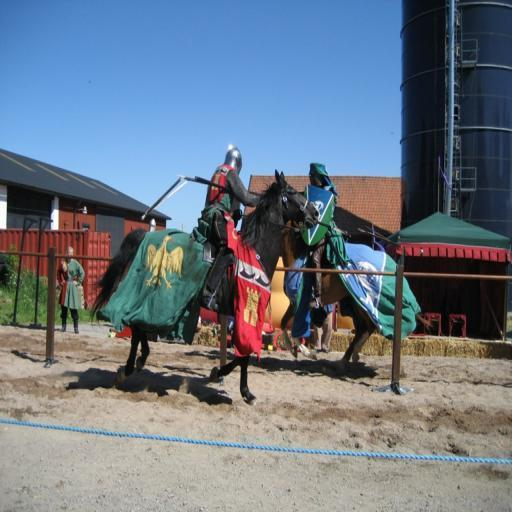horse: (85, 168, 321, 405), (278, 221, 377, 368)
